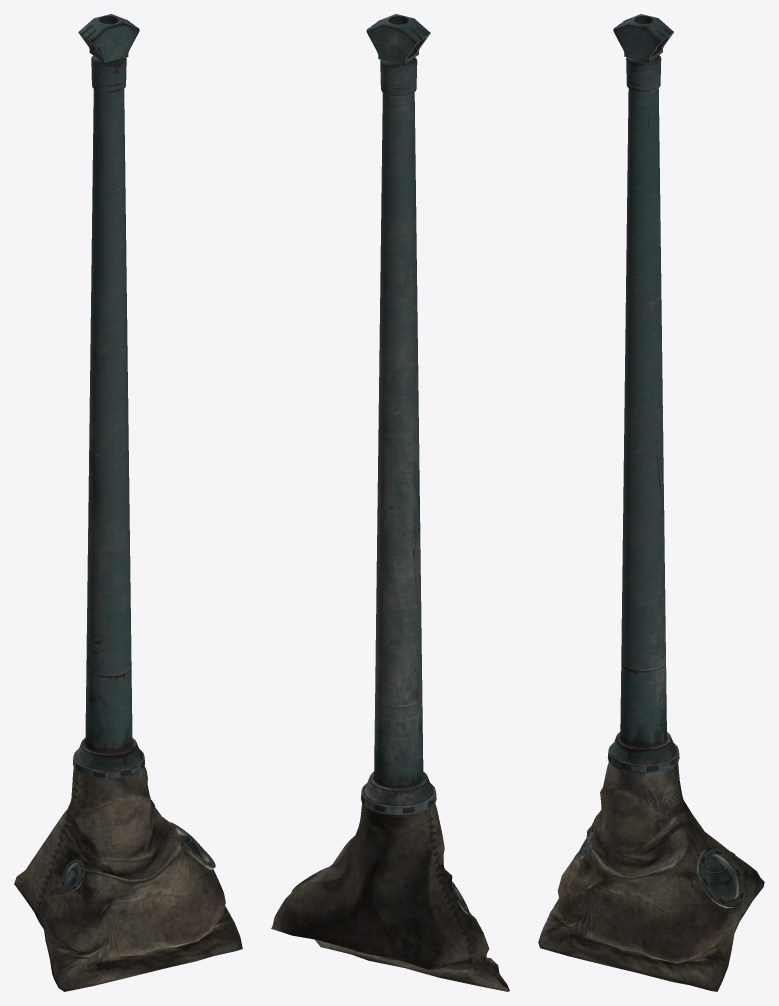
File: Gun_01.glb
3 renders of one model, left to right at view 1: azimuth 30°, elevation 25°; view 2: azimuth 150°, elevation 25°; view 3: azimuth 330°, elevation 25°, orthographic. The views are drawn at different scales.
Visible parts, largest first — view 1: set_0_group_0; view 2: set_0_group_0; view 3: set_0_group_0.
Part boxes in pixels (left/top/right/bottom): set_0_group_0: left=14, top=14, right=242, bottom=991; set_0_group_0: left=271, top=14, right=509, bottom=991; set_0_group_0: left=538, top=14, right=764, bottom=991.
Bounding box in the file's own units: 1.51 × 7.28 × 0.8917.
1 material, 1 textured.
